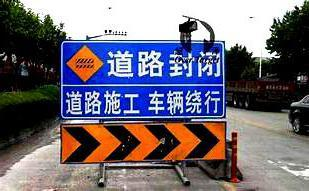sign: (60, 41, 226, 162)
